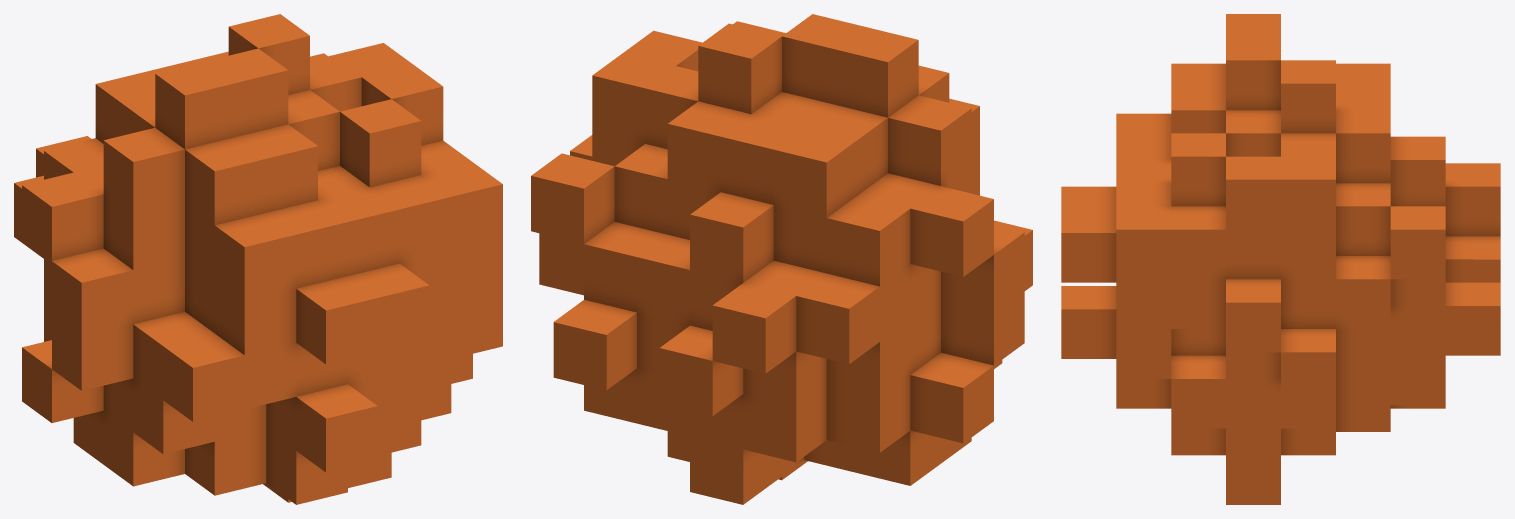
Rendered from cm_puff_o.glb.
3 views of the same model, side by side, from view 1: azimuth 30°, elevation 25°; view 2: azimuth 150°, elevation 25°; view 3: azimuth 270°, elevation 25° (orthographic). The views are drawn at different scales.
Visible parts, largest first — view 1: cm_puff_o_body; view 2: cm_puff_o_body; view 3: cm_puff_o_body.
Boxes of the visible parts, x1,y1,x2,y2 form: cm_puff_o_body: (14,14,502,504); cm_puff_o_body: (531,14,1032,504); cm_puff_o_body: (1061,14,1500,504).
Bounding box in the file's own units: 1 × 1 × 1.
1 material, 1 textured.
